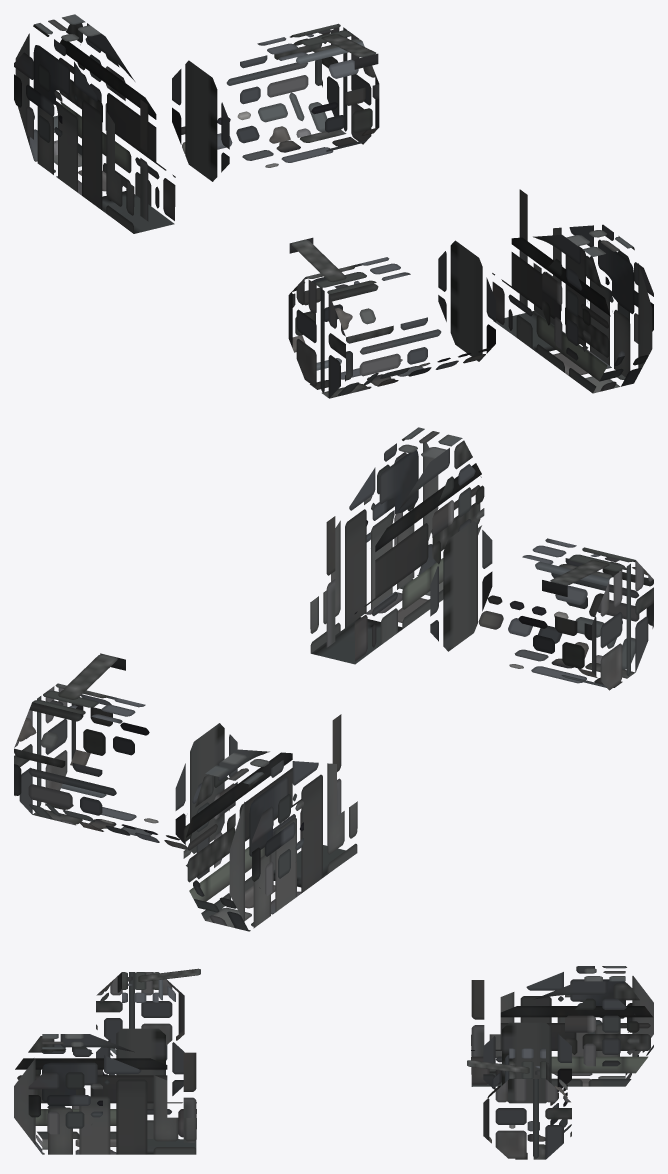
The model's file is motors.obj.
3 views of the same model, one above another, from view 1: azimuth 30°, elevation 25°; view 2: azimuth 150°, elevation 25°; view 3: azimuth 270°, elevation 25° (orthographic). The views are drawn at different scales.
Visible parts, largest first — view 1: ae904ec4-9937-f6de-2ec8-4419b676e499, ecc66b65-0edd-5792-5c5a-263a2ba09e05, 5ba72550-bcd1-eaef-170c-fb1fcaee3263, 63c6ad9a-15d5-6e8e-a489-8dc679d06927, e5097a2f-7711-6aa5-f6e3-66605ea50442, fbeee31b-cc3d-4916-f120-4125b47bbf15, ee431cf8-8ba3-d0ef-274f-5327264540c2, a3c35518-04f3-5fbc-c690-a8794509165d, b14b4d2c-9b15-c8a8-2271-41352e36cf64, 48c555a9-a91f-3914-8511-1b074c6ca6a8; view 2: ecc66b65-0edd-5792-5c5a-263a2ba09e05, ae904ec4-9937-f6de-2ec8-4419b676e499, 63c6ad9a-15d5-6e8e-a489-8dc679d06927, 5ba72550-bcd1-eaef-170c-fb1fcaee3263, fbeee31b-cc3d-4916-f120-4125b47bbf15, e5097a2f-7711-6aa5-f6e3-66605ea50442, b14b4d2c-9b15-c8a8-2271-41352e36cf64, 48c555a9-a91f-3914-8511-1b074c6ca6a8, ee431cf8-8ba3-d0ef-274f-5327264540c2; view 3: ecc66b65-0edd-5792-5c5a-263a2ba09e05, ae904ec4-9937-f6de-2ec8-4419b676e499, 5ba72550-bcd1-eaef-170c-fb1fcaee3263, 63c6ad9a-15d5-6e8e-a489-8dc679d06927, e5097a2f-7711-6aa5-f6e3-66605ea50442, fbeee31b-cc3d-4916-f120-4125b47bbf15, a3c35518-04f3-5fbc-c690-a8794509165d, 48c555a9-a91f-3914-8511-1b074c6ca6a8, ee431cf8-8ba3-d0ef-274f-5327264540c2, b14b4d2c-9b15-c8a8-2271-41352e36cf64.
Part boxes in pixels (x1,y1,x2,y2): ae904ec4-9937-f6de-2ec8-4419b676e499: [15, 14, 175, 233]; ecc66b65-0edd-5792-5c5a-263a2ba09e05: [492, 224, 652, 393]; 5ba72550-bcd1-eaef-170c-fb1fcaee3263: [172, 23, 379, 181]; 63c6ad9a-15d5-6e8e-a489-8dc679d06927: [288, 240, 495, 398]; e5097a2f-7711-6aa5-f6e3-66605ea50442: [542, 250, 653, 360]; fbeee31b-cc3d-4916-f120-4125b47bbf15: [14, 37, 125, 142]; ee431cf8-8ba3-d0ef-274f-5327264540c2: [289, 237, 359, 288]; a3c35518-04f3-5fbc-c690-a8794509165d: [140, 99, 148, 221]; b14b4d2c-9b15-c8a8-2271-41352e36cf64: [306, 30, 378, 69]; 48c555a9-a91f-3914-8511-1b074c6ca6a8: [519, 189, 527, 306]; ecc66b65-0edd-5792-5c5a-263a2ba09e05: [310, 427, 481, 664]; ae904ec4-9937-f6de-2ec8-4419b676e499: [186, 749, 357, 931]; 63c6ad9a-15d5-6e8e-a489-8dc679d06927: [430, 521, 653, 690]; 5ba72550-bcd1-eaef-170c-fb1fcaee3263: [14, 683, 237, 853]; fbeee31b-cc3d-4916-f120-4125b47bbf15: [183, 776, 303, 895]; e5097a2f-7711-6aa5-f6e3-66605ea50442: [364, 452, 484, 564]; b14b4d2c-9b15-c8a8-2271-41352e36cf64: [50, 653, 125, 708]; 48c555a9-a91f-3914-8511-1b074c6ca6a8: [326, 516, 335, 647]; ee431cf8-8ba3-d0ef-274f-5327264540c2: [542, 554, 619, 596]; ecc66b65-0edd-5792-5c5a-263a2ba09e05: [14, 1034, 196, 1154]; ae904ec4-9937-f6de-2ec8-4419b676e499: [471, 966, 653, 1086]; 5ba72550-bcd1-eaef-170c-fb1fcaee3263: [483, 1022, 571, 1159]; 63c6ad9a-15d5-6e8e-a489-8dc679d06927: [96, 972, 184, 1108]; e5097a2f-7711-6aa5-f6e3-66605ea50442: [28, 1044, 102, 1134]; fbeee31b-cc3d-4916-f120-4125b47bbf15: [565, 981, 639, 1066]; a3c35518-04f3-5fbc-c690-a8794509165d: [471, 980, 484, 1056]; 48c555a9-a91f-3914-8511-1b074c6ca6a8: [183, 1052, 196, 1142]; ee431cf8-8ba3-d0ef-274f-5327264540c2: [128, 968, 200, 985]; b14b4d2c-9b15-c8a8-2271-41352e36cf64: [467, 1060, 539, 1075].
Size of the model in its own units: 1.27 by 0.5858 by 3.22.
